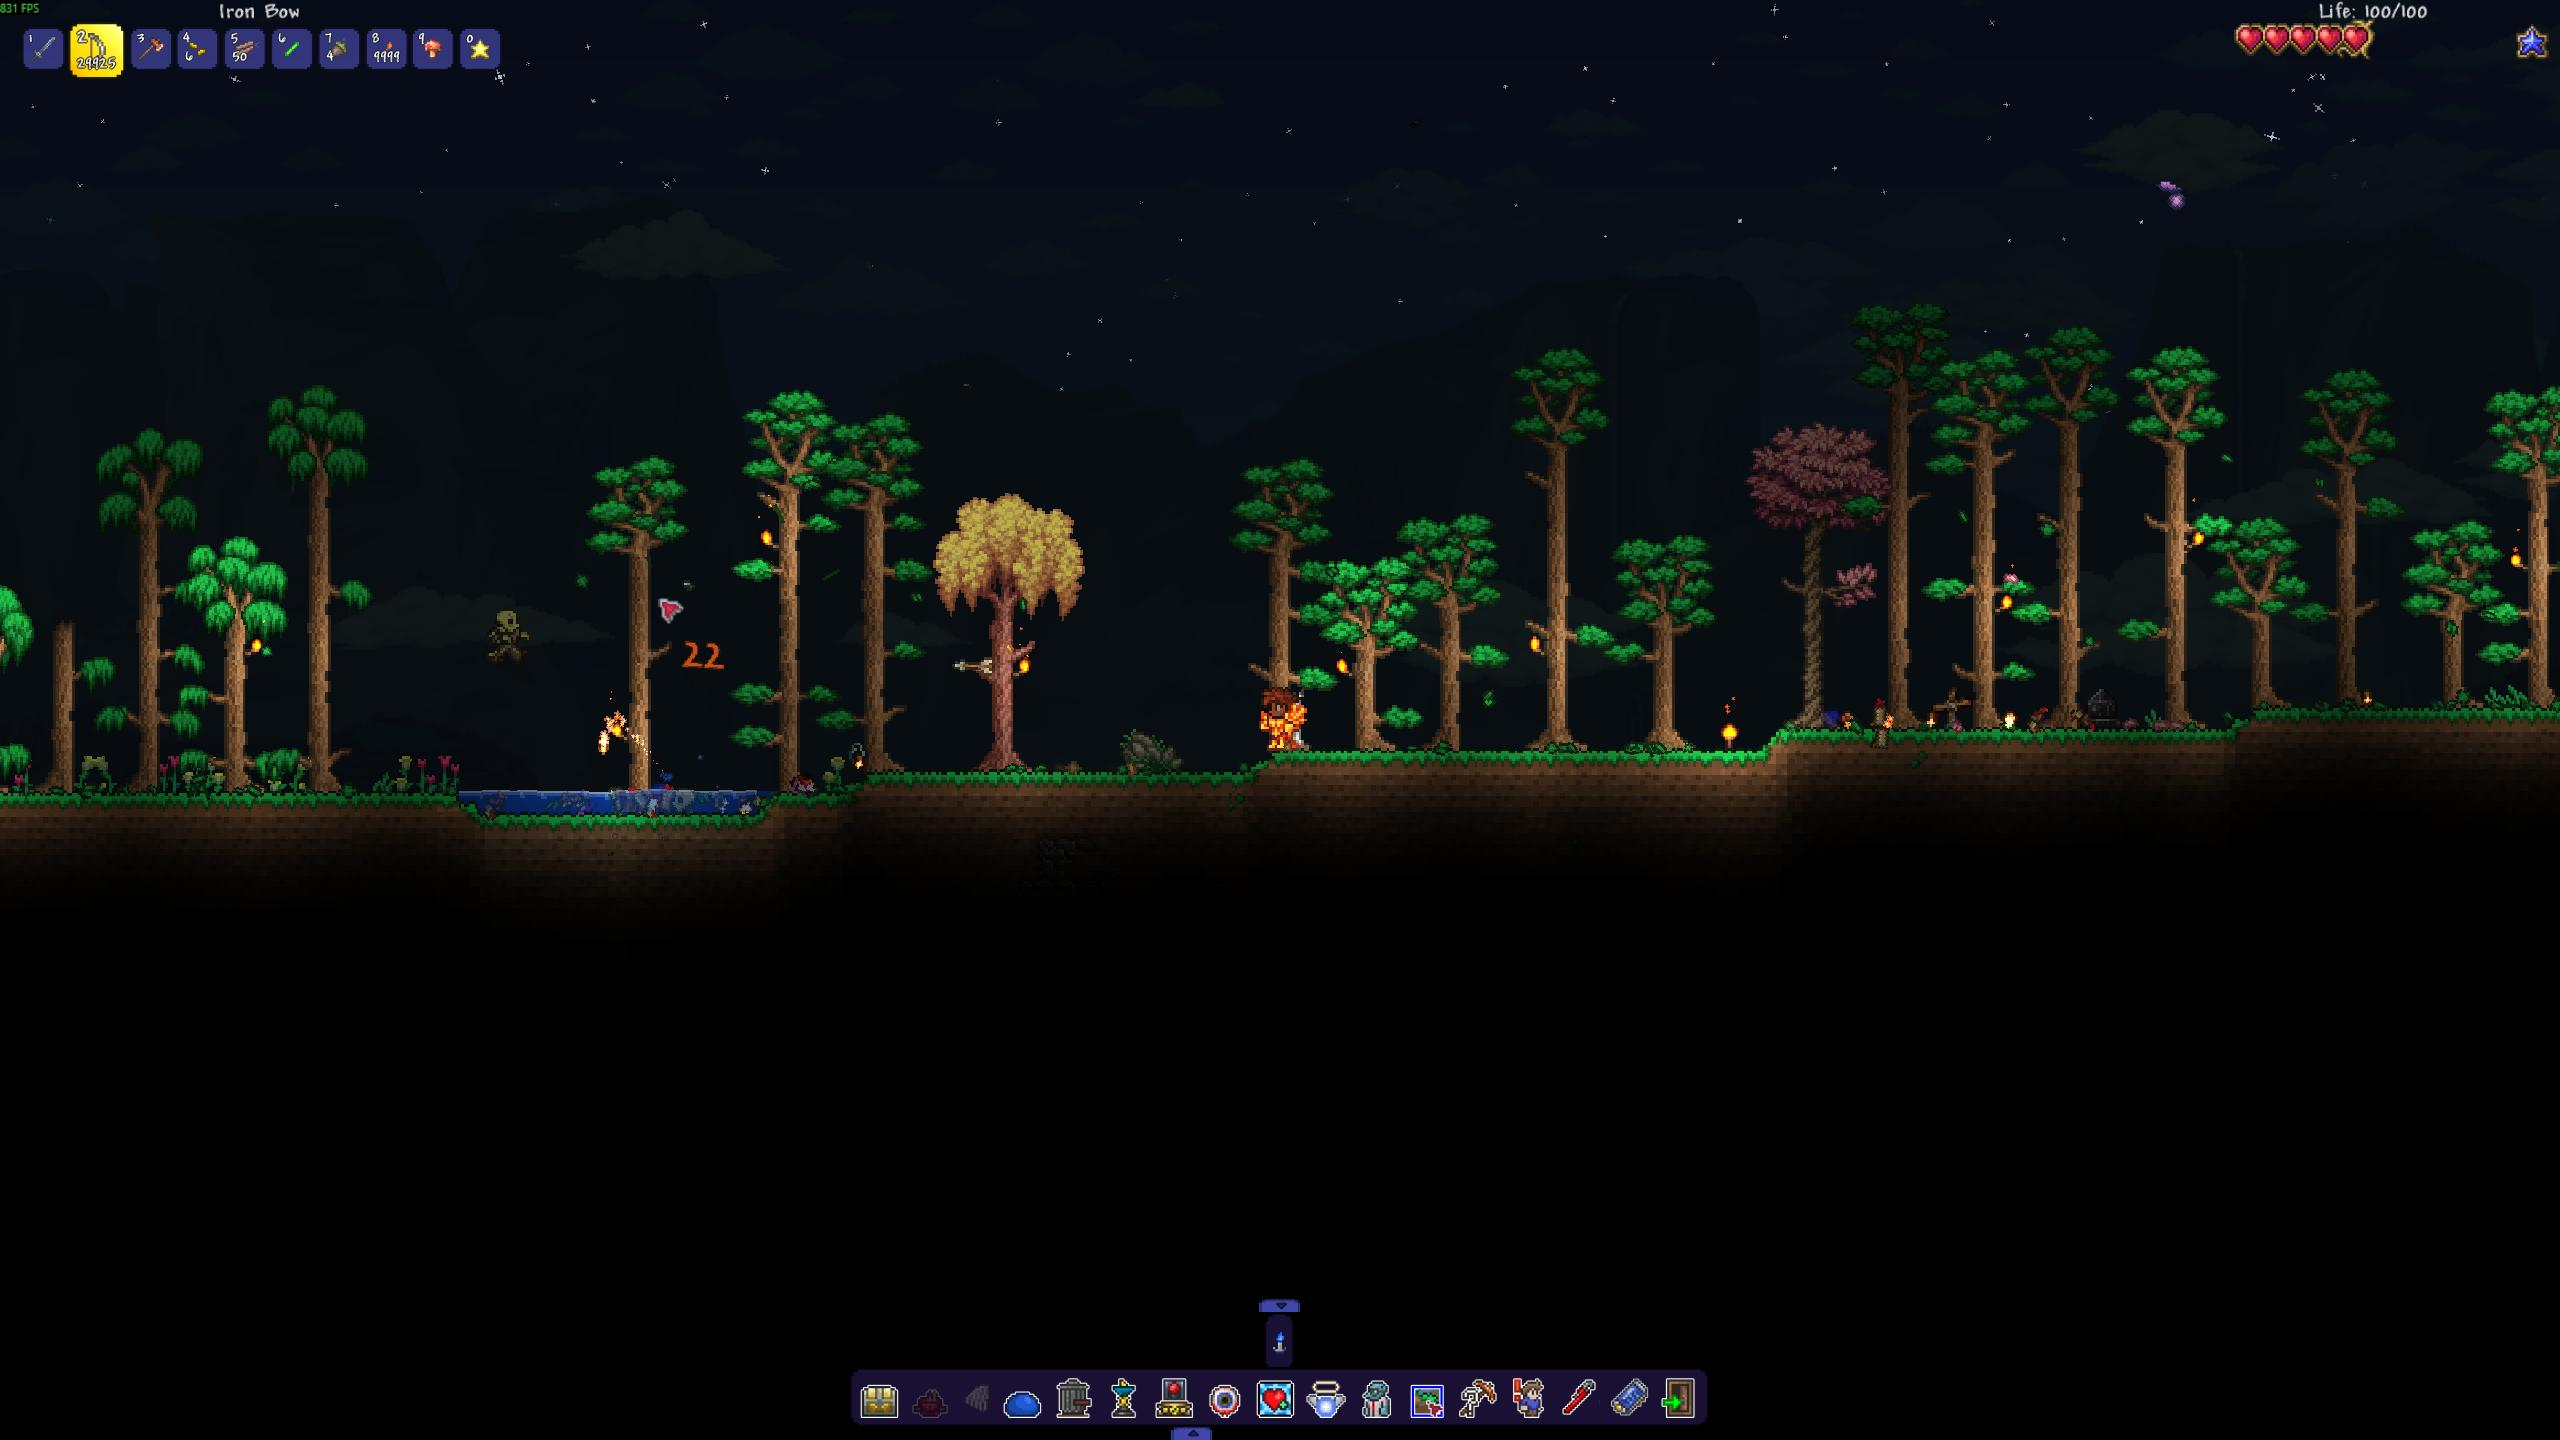Zombie: (480, 603, 535, 665)
